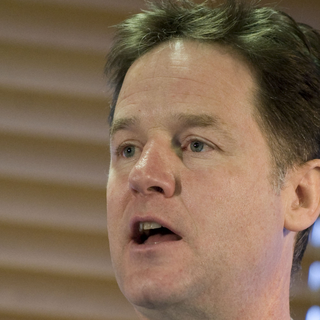eye: (176, 131, 223, 159), (109, 138, 147, 164)
